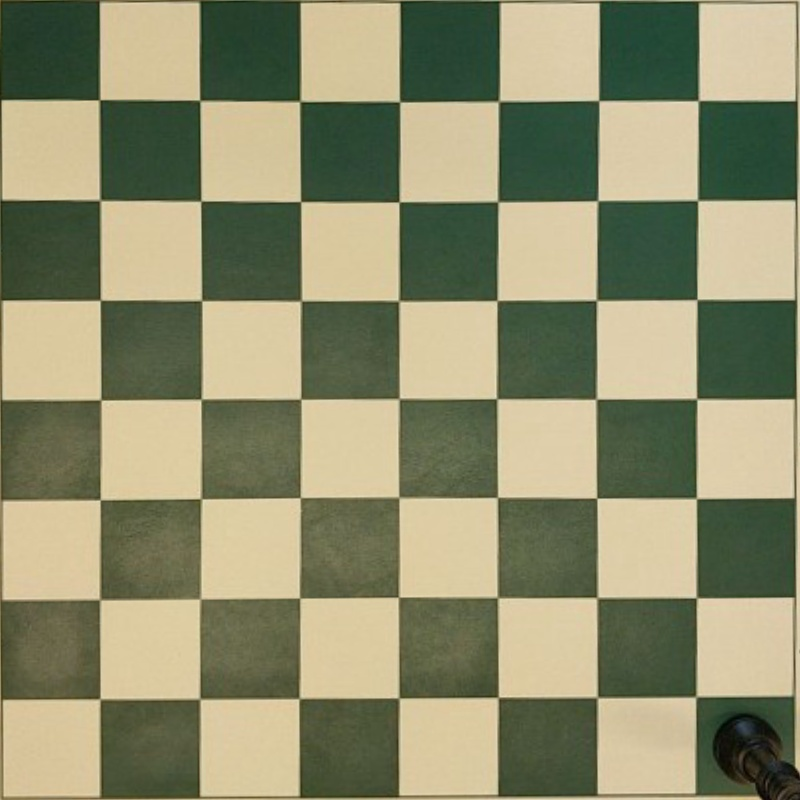black-king: (713, 711, 799, 800)
